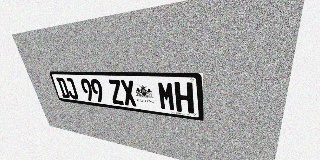9: (89, 79, 105, 103), (79, 78, 95, 101)
D: (56, 77, 71, 98)
H: (174, 82, 194, 114)
J: (64, 78, 79, 99)
M: (157, 81, 176, 111)
X: (120, 80, 137, 107)
Z: (108, 79, 125, 105)
